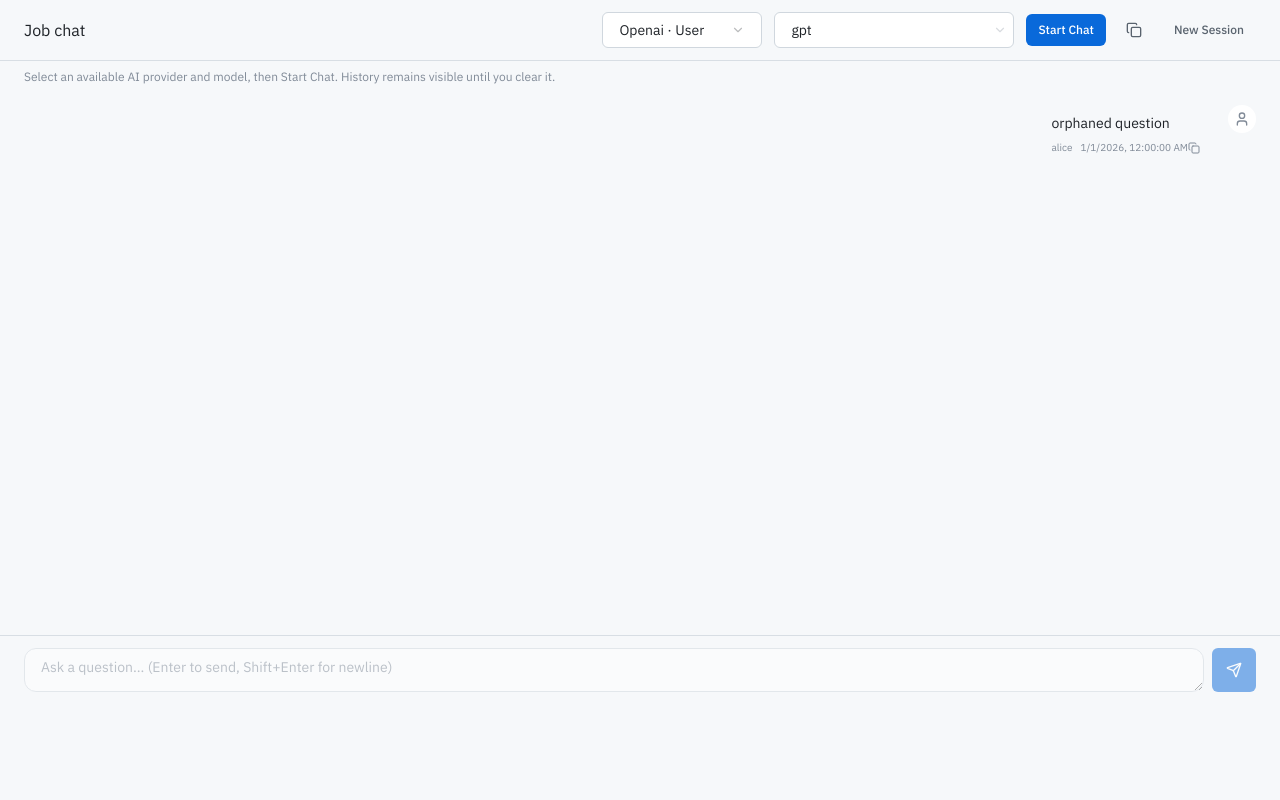
Scenario: uses the no-session version when clearing orphaned history
The width and height of the screenshot is (1280, 800).
Expected: the text "orphaned question" is shown, [1052, 114, 1170, 132]
Click the button "New Session": click(1209, 30) [1162, 16, 1256, 44]
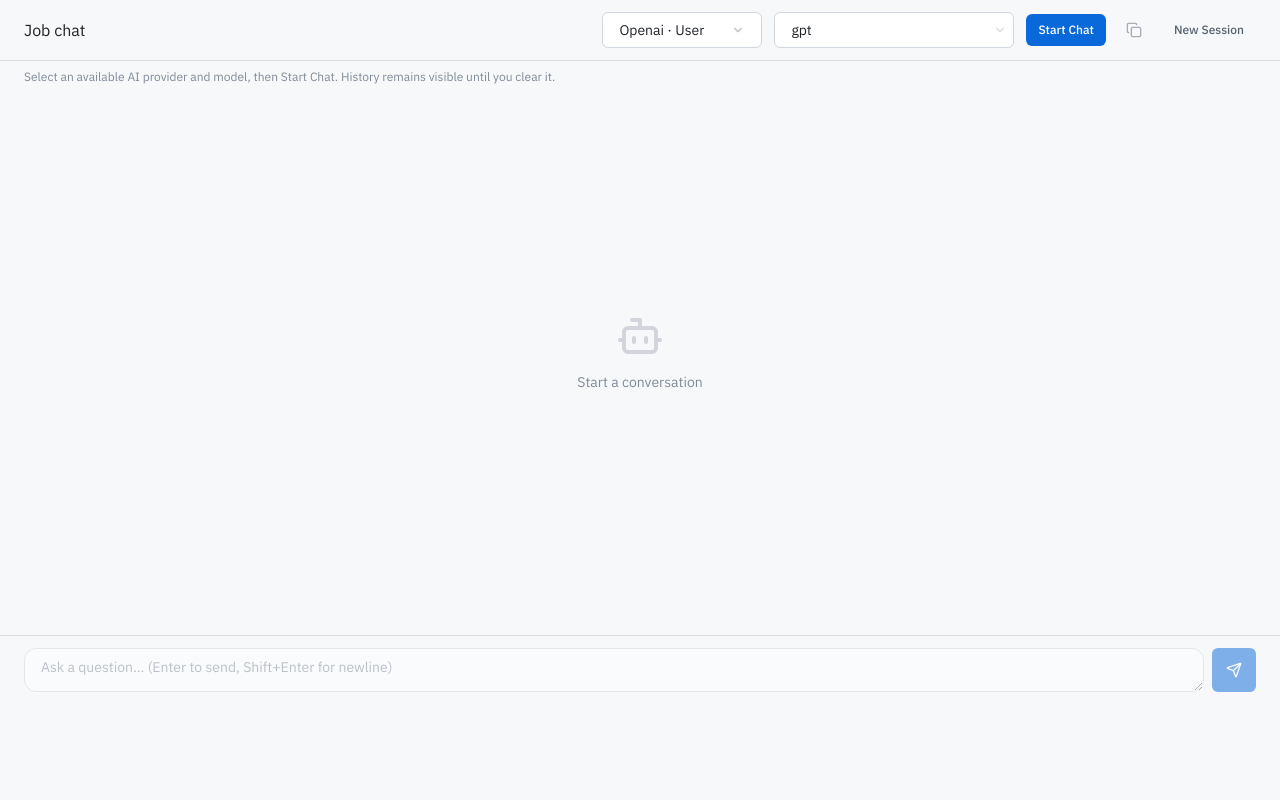
Expected: the text "orphaned question" is gone
